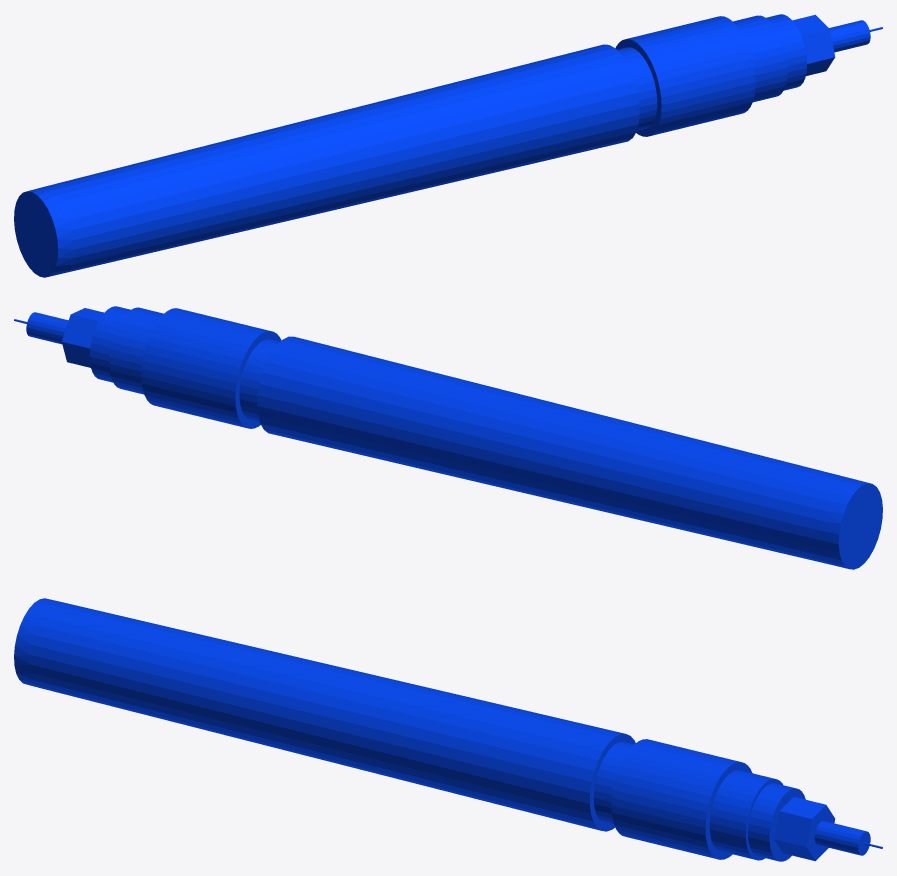
3 views of the same model, one above another, from view 1: azimuth 30°, elevation 25°; view 2: azimuth 150°, elevation 25°; view 3: azimuth 330°, elevation 25° (orthographic).
Parts seen in each view (by area): view 1: Sólido1:1, Sólido1; view 2: Sólido1:1, Sólido1; view 3: Sólido1:1, Sólido1.
Part boxes in pixels (x1=…): Sólido1:1: x1=14, y1=44, x2=639, y2=277; Sólido1: x1=615, y1=14, x2=882, y2=136; Sólido1:1: x1=257, y1=336, x2=882, y2=569; Sólido1: x1=14, y1=306, x2=281, y2=428; Sólido1:1: x1=14, y1=598, x2=635, y2=831; Sólido1: x1=593, y1=739, x2=882, y2=861.
Bounding box in the file's own units: 117 × 11.99 × 12.
